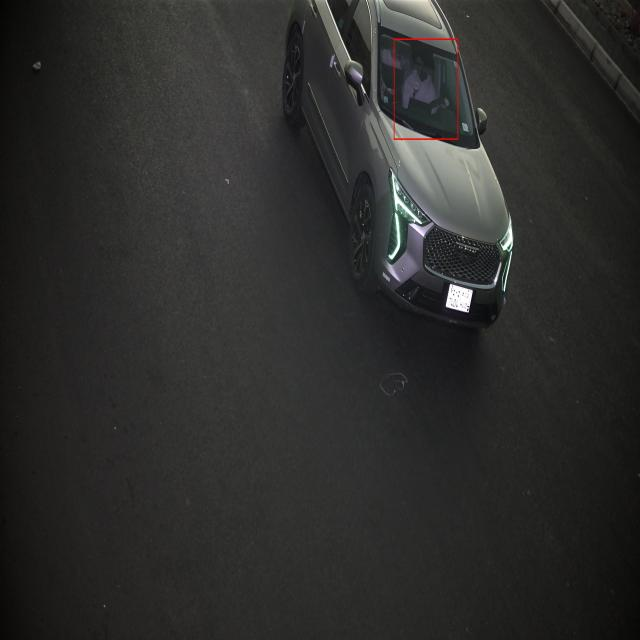windshield: (374, 24, 482, 151)
